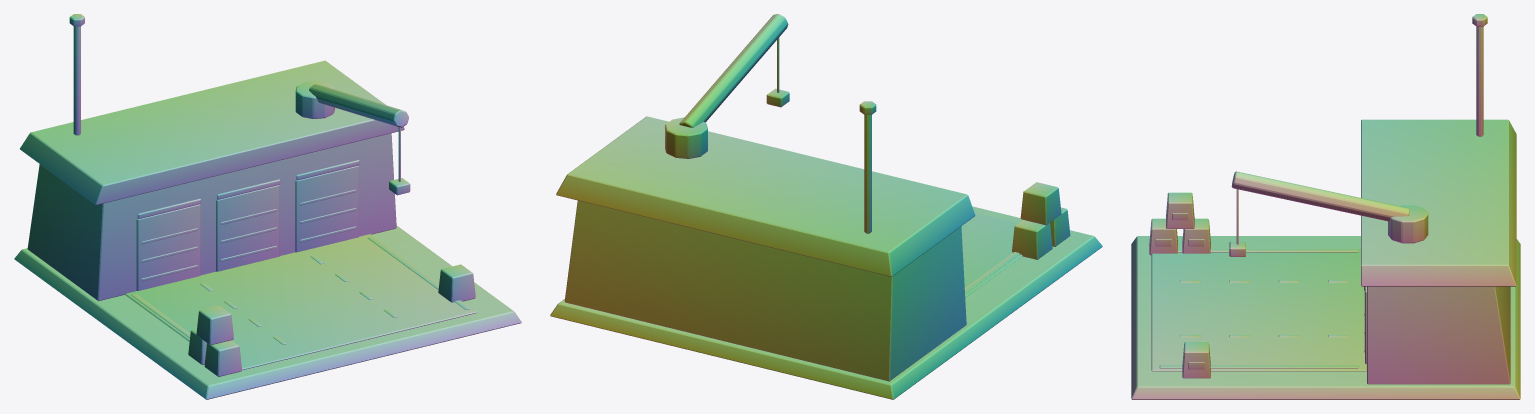
The model's file is factory_mobilebase_rig.glb.
3 views of the same model, side by side, from view 1: azimuth 30°, elevation 25°; view 2: azimuth 150°, elevation 25°; view 3: azimuth 270°, elevation 25° (orthographic). The views are drawn at different scales.
Parts seen in each view (by area): view 1: body, spin_crane; view 2: body, spin_crane; view 3: body, spin_crane.
Boxes of the visible parts, x1,y1,x2,y2 form: body: (14, 14, 521, 399); spin_crane: (295, 81, 410, 195); body: (550, 101, 1102, 399); spin_crane: (665, 14, 789, 158); body: (1131, 14, 1520, 399); spin_crane: (1229, 171, 1428, 256).
Size of the model in its own units: 17.96 by 13.4 by 18.96.
